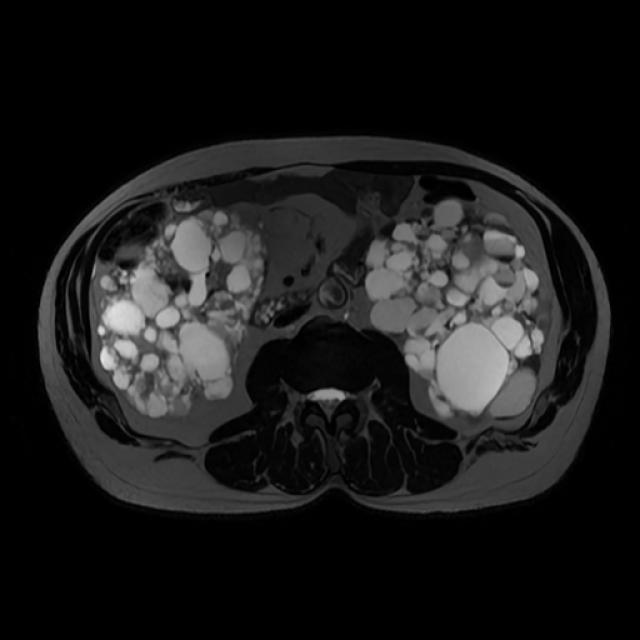sag: (96, 208, 269, 421)
sol: (366, 199, 546, 423)
